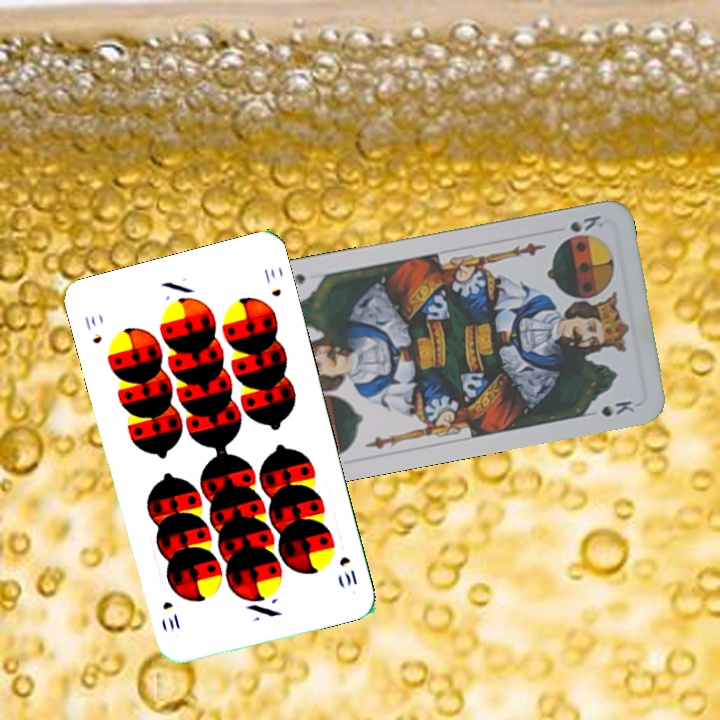S10: (335, 552, 360, 589), (80, 312, 105, 346)
SK: (565, 211, 606, 235)
